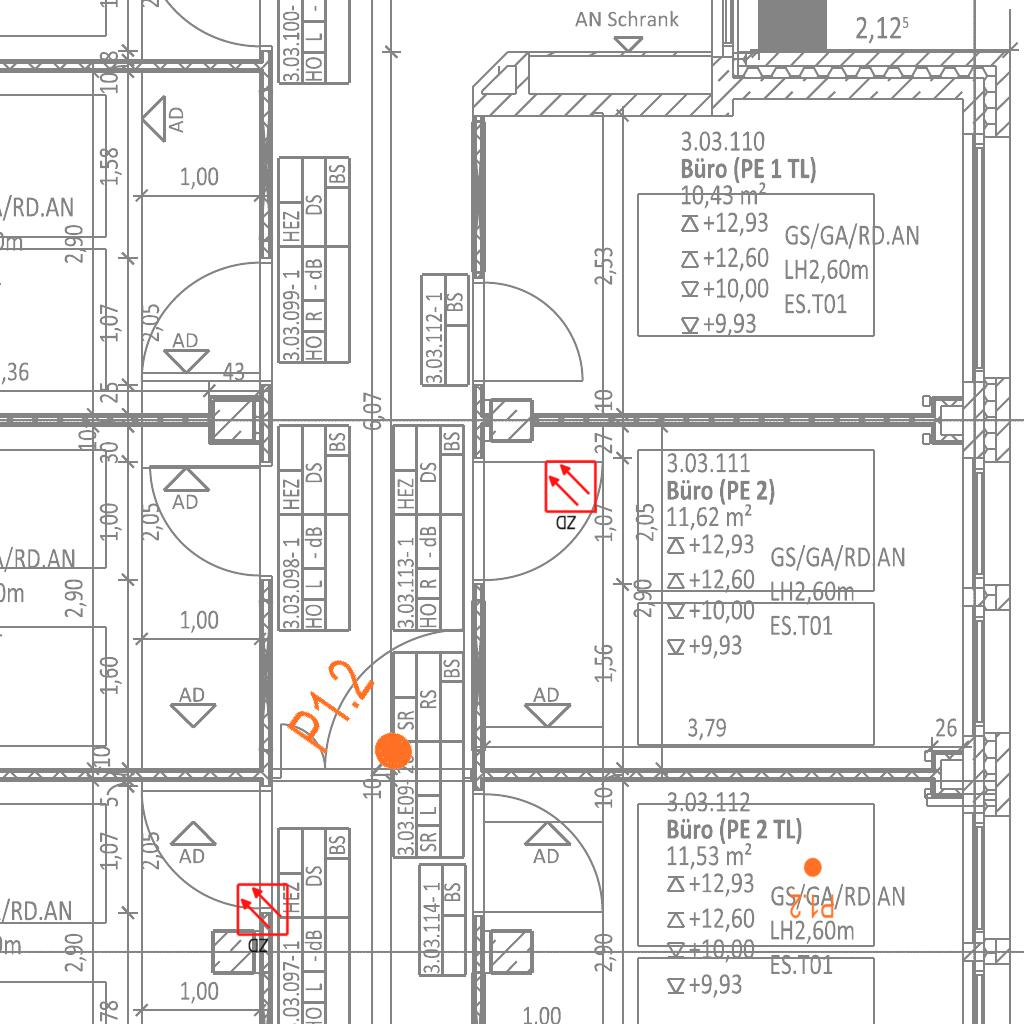Downlight_LED_Einbauleuchten_Flur: (281, 651, 440, 801), (789, 856, 835, 920)
ZD_Melder_in_Zwischendecke_mit_Revisionsoeffnung_mind_40_x_40_cm: (543, 459, 600, 533), (235, 882, 292, 956)
